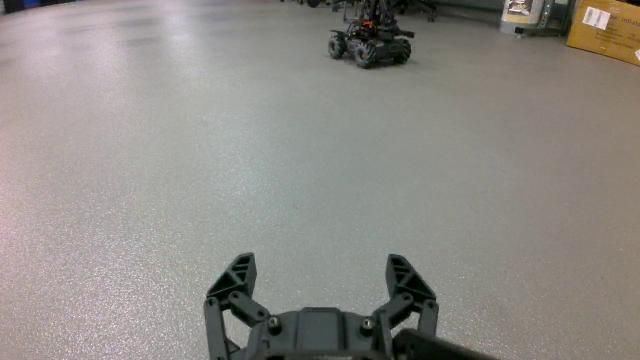robot: (327, 0, 416, 68)
